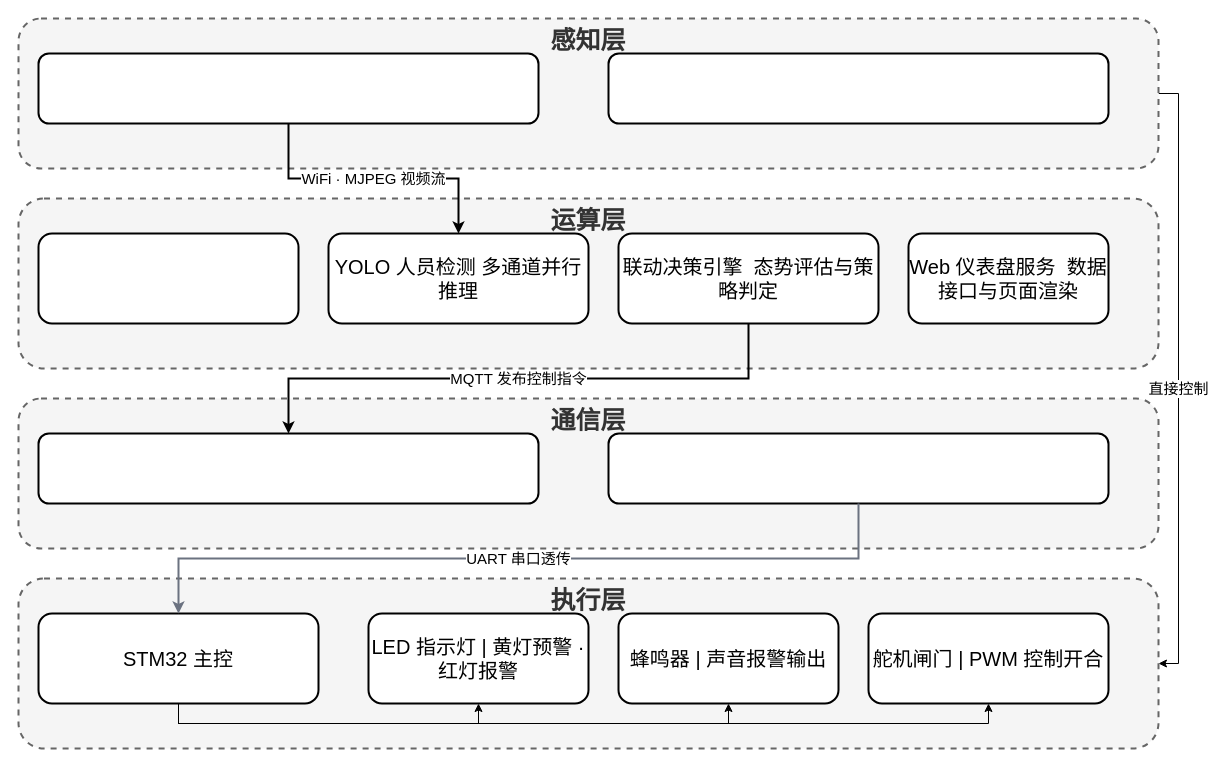
The diagram is 1225 pixels wide and 766 high, and some of its shapes have lost their labels. Each missing label, with the centre of its shape:
ESP32-CAM 摄像头 OV2640 传感器 · MJPEG 视频推流: (288,88)
ESP8266 WiFi 透传模块: (858,468)
MQTT 消息代理: (288,468)
PC 主机: (168,278)
火焰传感器 红外接收管模块 · 低电平触发: (858,88)
